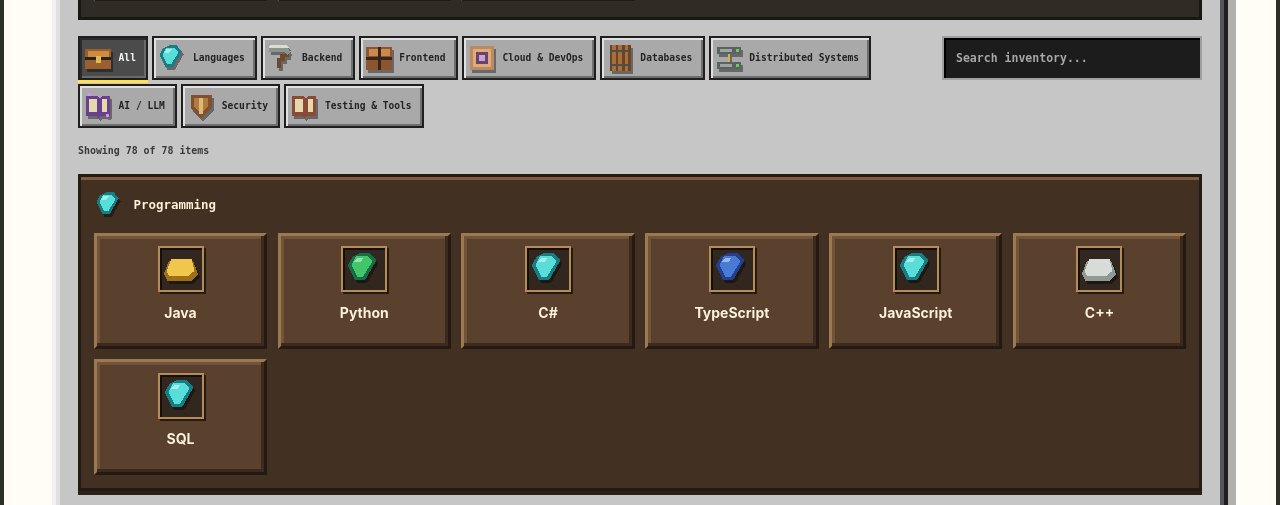
Scenario: Skills storage wall › shows factual evidence for C# once it is selected
(page scrolled)
Click the button "C#" at [548, 290], box [461,232,635,348]
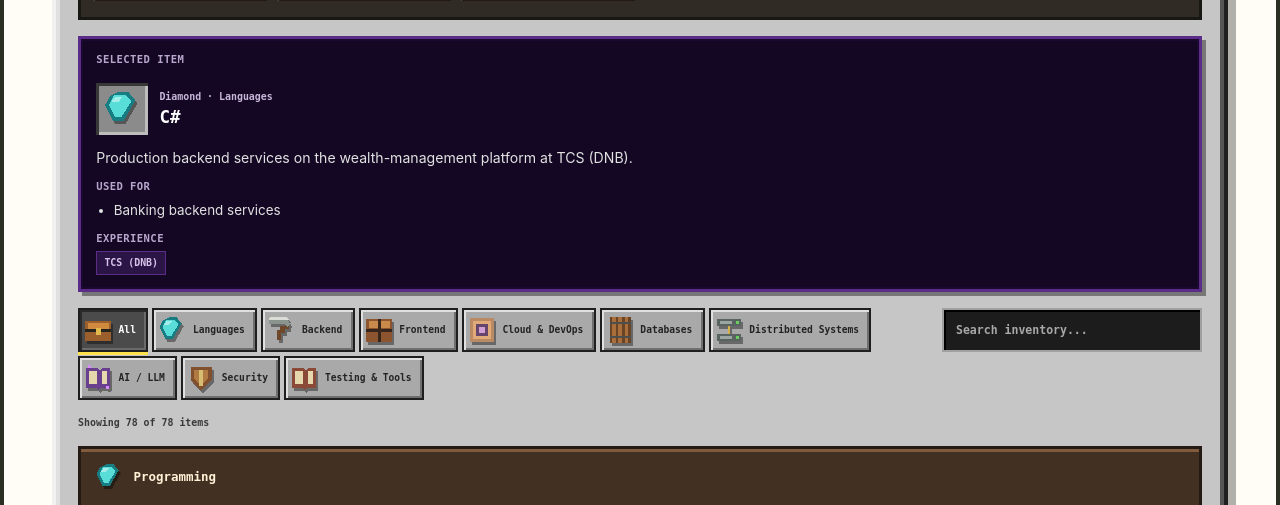
Now the heading "C#" is shown, box [159,107,181,127]
Now the text "Diamond · Languages" is shown, box [159,89,273,103]
Now the text "wealth-management platform" is shown, box [96,148,633,165]
